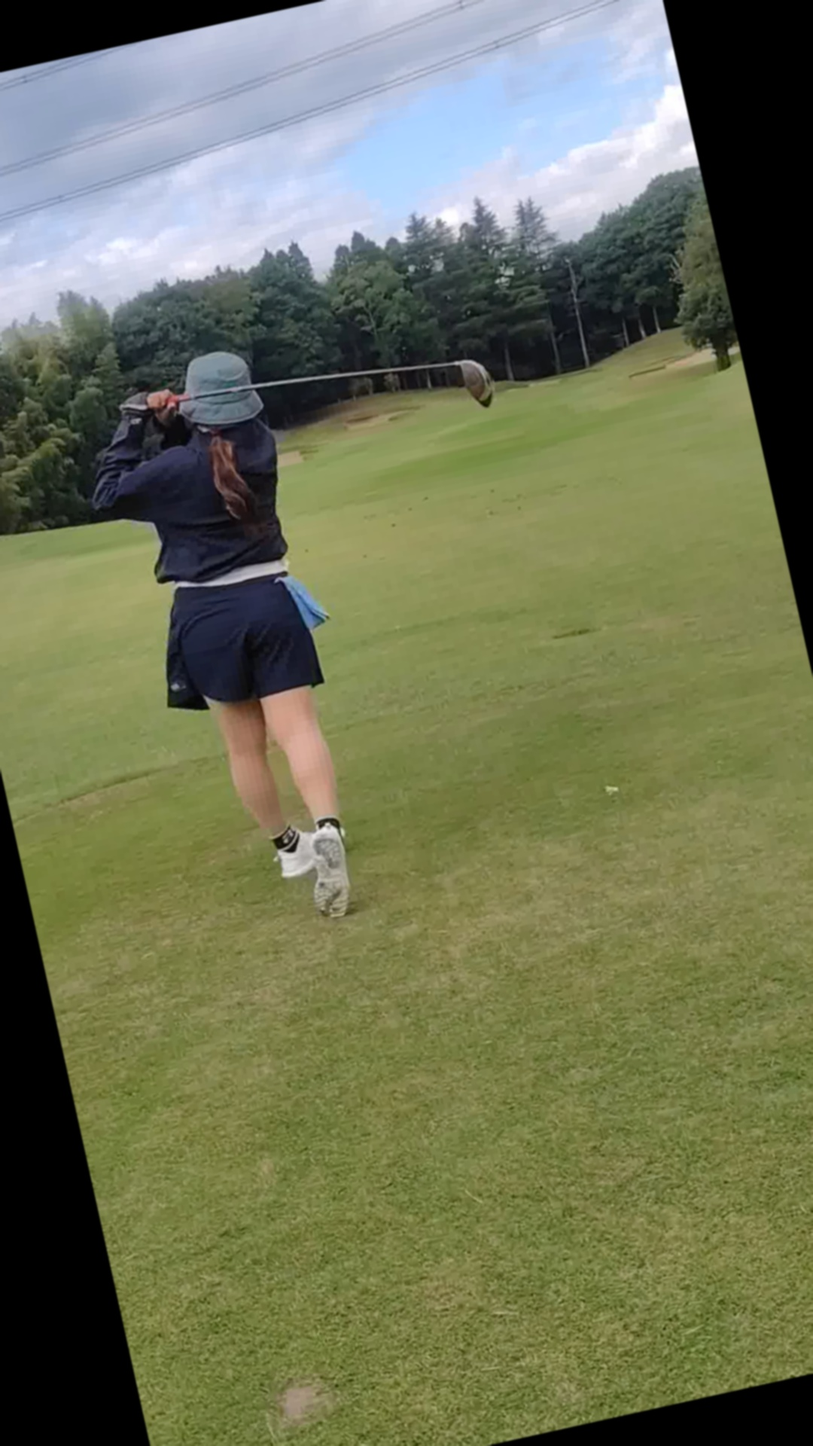clubhead: (380, 305, 611, 511)
